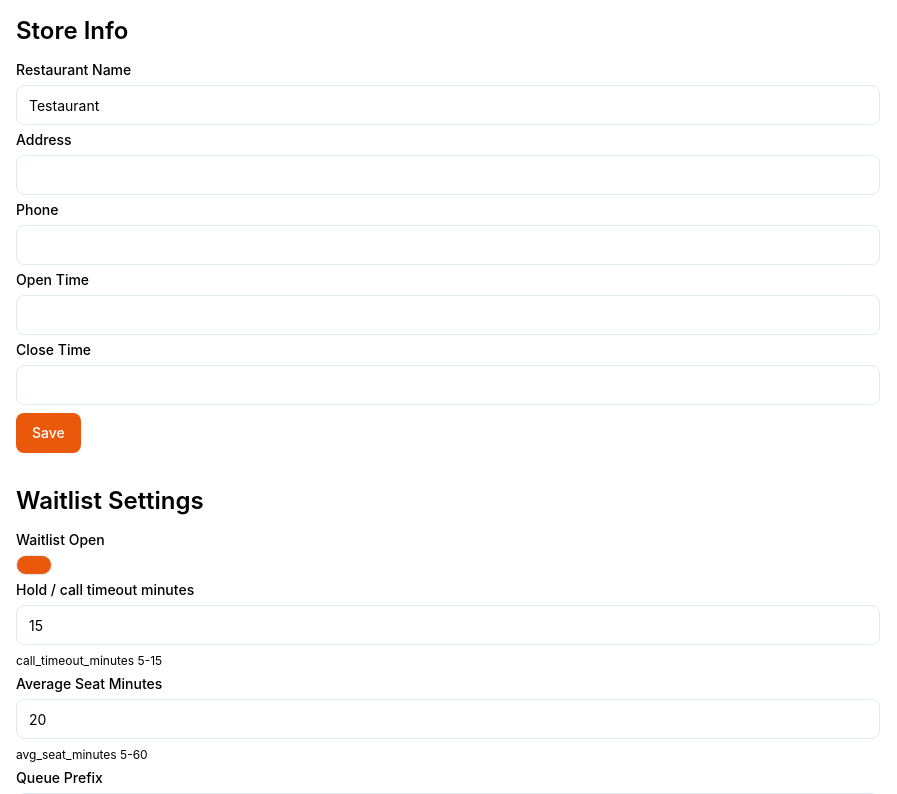
Scenario: waitlist settings save › refuses out-of-range hold minutes
Replace the text in the field with test id "hold-minutes" with "99": (448, 625) [16,605,880,645]
(page scrolled)
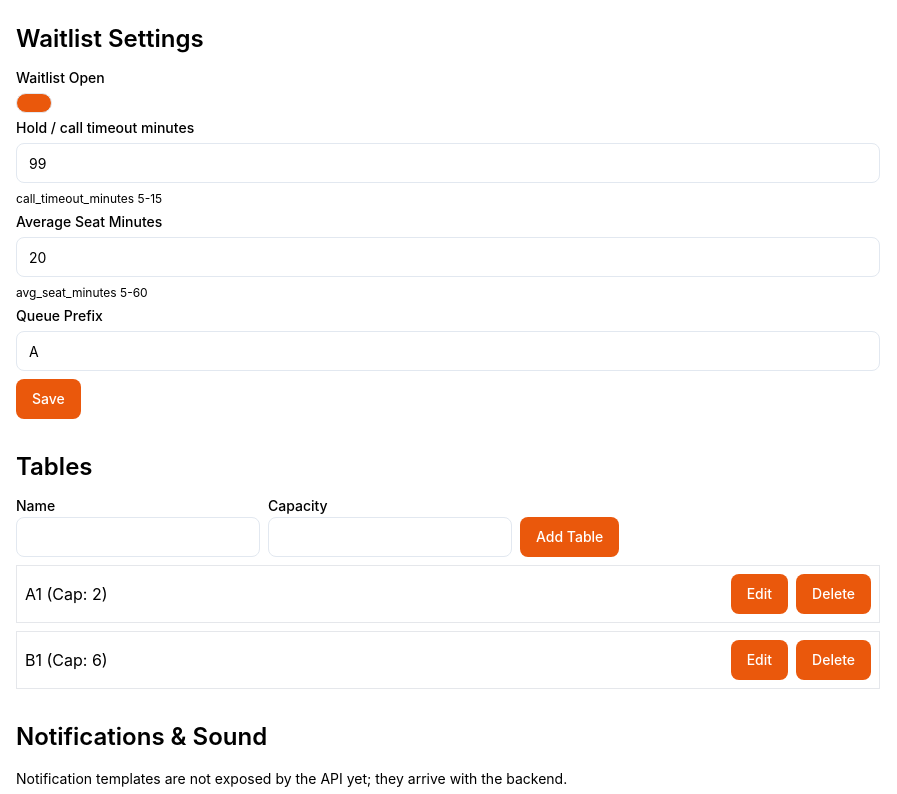
Click the button with test id "save-waitlist": (48, 399) [16,379,81,419]
(page scrolled)
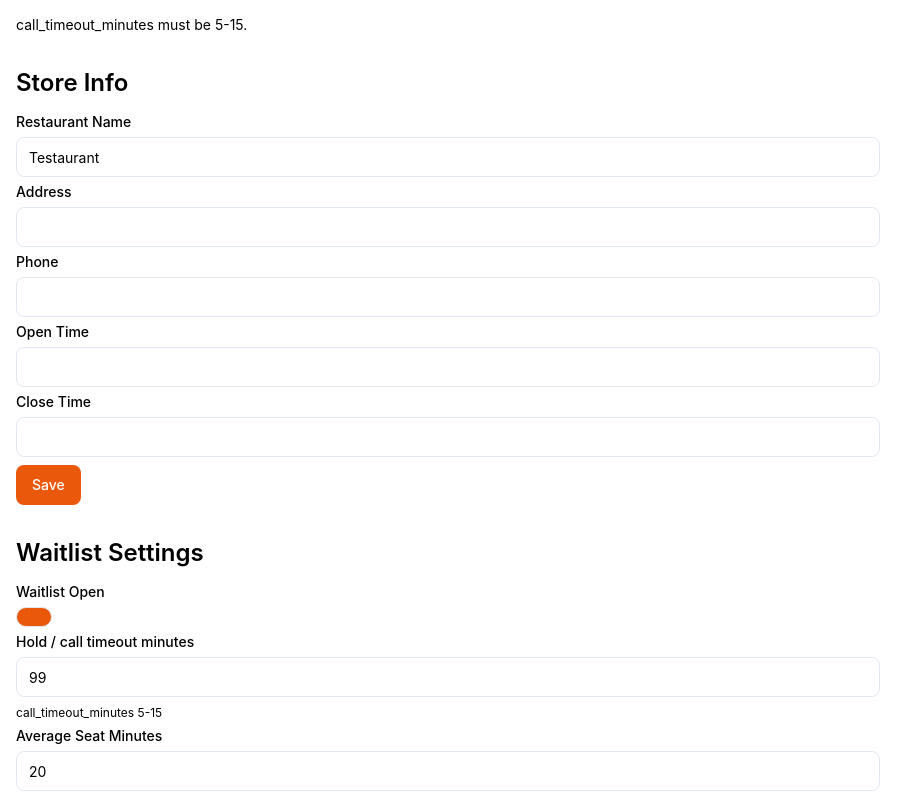
Result: the text "call_timeout_minutes must be 5-15." is shown at [16,16,247,33]
